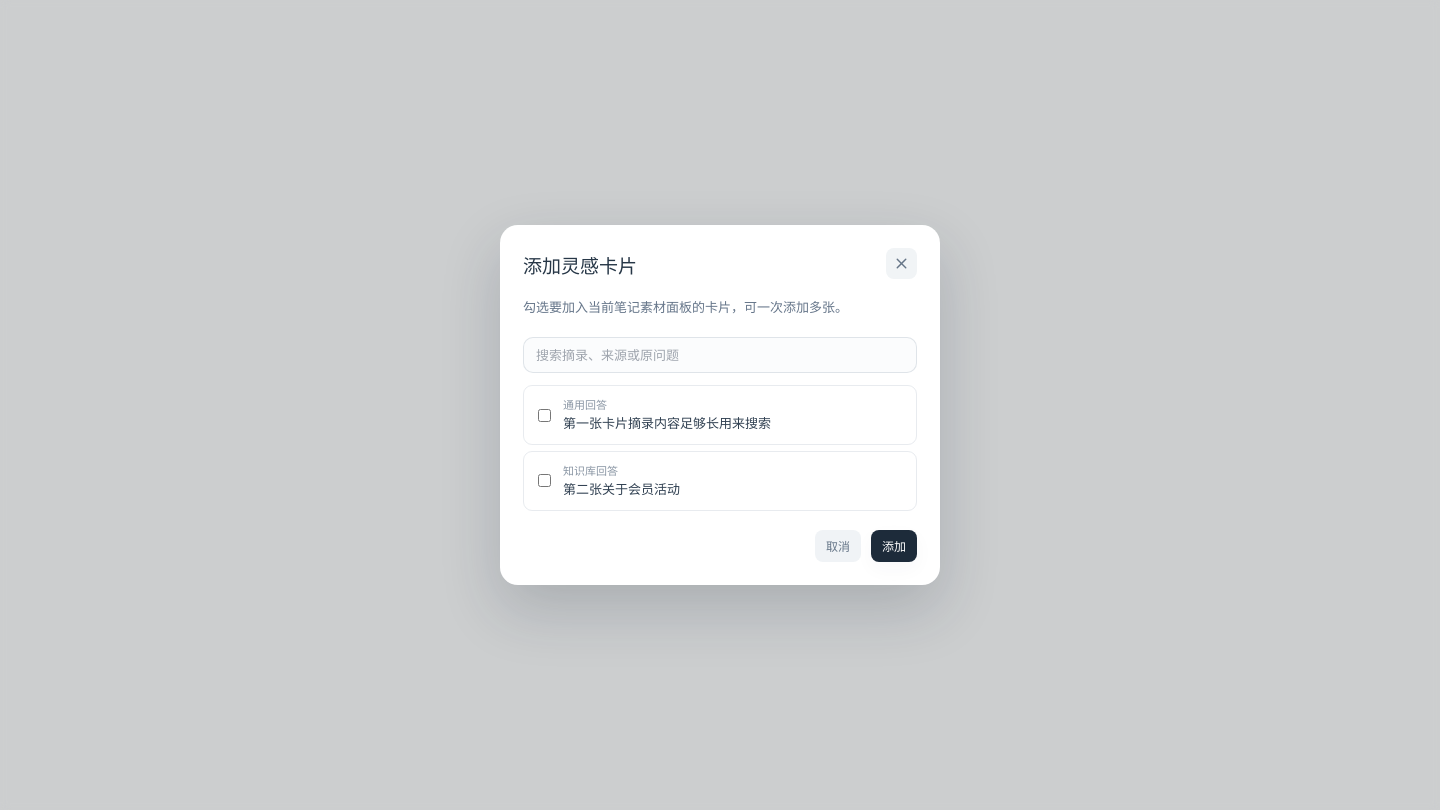
Test case: AddInspirationCardsDialog › filters the list by search query
This screenshot has width=1440, height=810.
Type "会员" into the field named "搜索灵感卡片" at x=720, y=355, box 523,337 -> 917,373
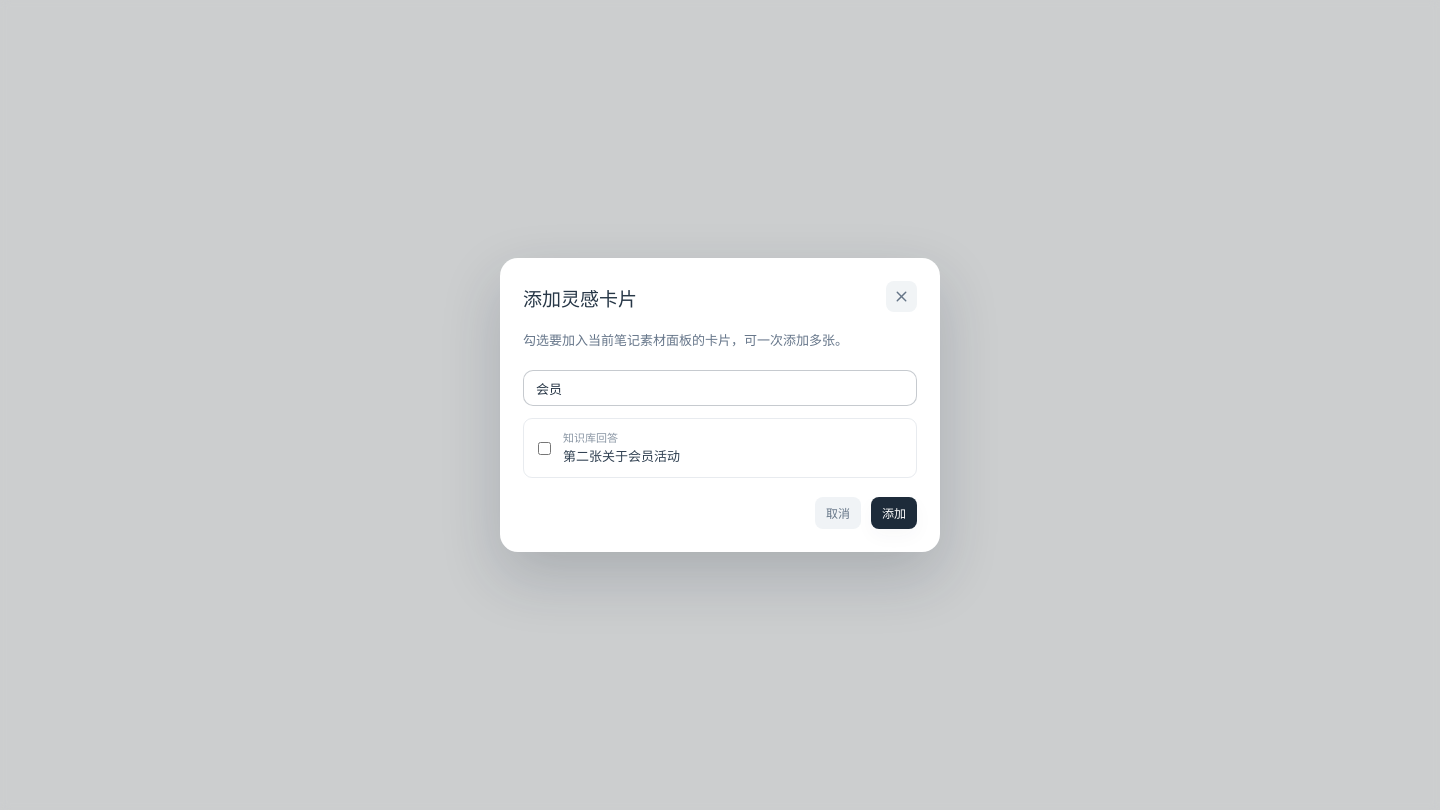
Expected: the checkbox labelled "知识库回答 第二张关于会员活动" is shown, 538,442 -> 551,454
Expected: the text "第一张卡片" is gone
